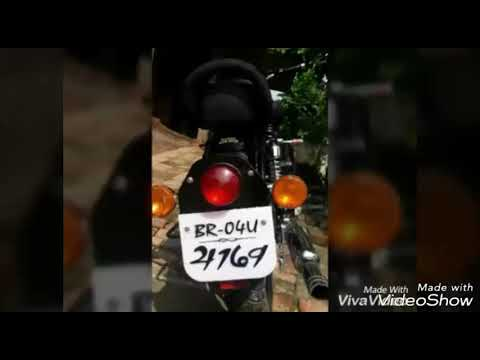number_plate: (172, 204, 282, 281)
